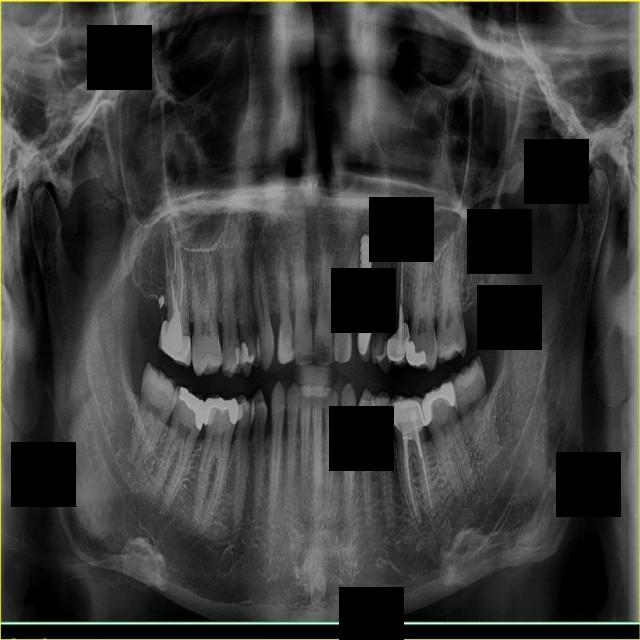55: (360, 234, 372, 311)
71: (160, 280, 185, 354), (407, 404, 424, 459), (398, 301, 404, 343)
74: (401, 432, 418, 521), (420, 455, 432, 508), (176, 238, 184, 308), (399, 254, 405, 306), (164, 236, 169, 278), (174, 233, 177, 277)
NucleOSS Implant: (412, 379, 463, 424), (174, 381, 215, 432), (202, 396, 239, 425), (402, 338, 427, 369)
Straumann Implant: (233, 341, 257, 367), (237, 397, 244, 424), (235, 345, 242, 368)
Zimmer Implant: (147, 317, 204, 370), (385, 389, 428, 439), (355, 307, 376, 364), (386, 321, 411, 366)
